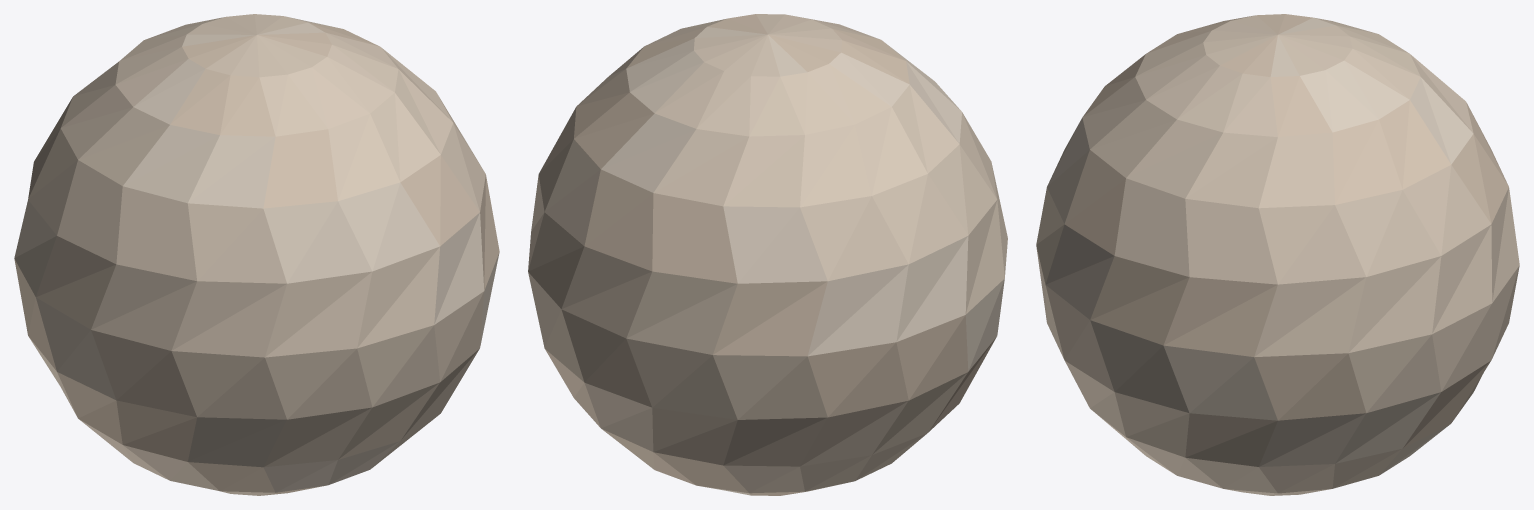
File: marine-loot-4.glb
The picture shows the model from 3 angles, left to right: view 1: azimuth 30°, elevation 25°; view 2: azimuth 150°, elevation 25°; view 3: azimuth 270°, elevation 25°; orthographic projection.
Parts seen in each view (by area): view 1: marine-loot-4; view 2: marine-loot-4; view 3: marine-loot-4.
Part boxes in pixels (<box>): marine-loot-4: <box>14,14,499,495</box>; marine-loot-4: <box>528,14,1007,495</box>; marine-loot-4: <box>1036,14,1519,495</box>.
Bounding box in the file's own units: 1.23 × 1.24 × 1.23.
